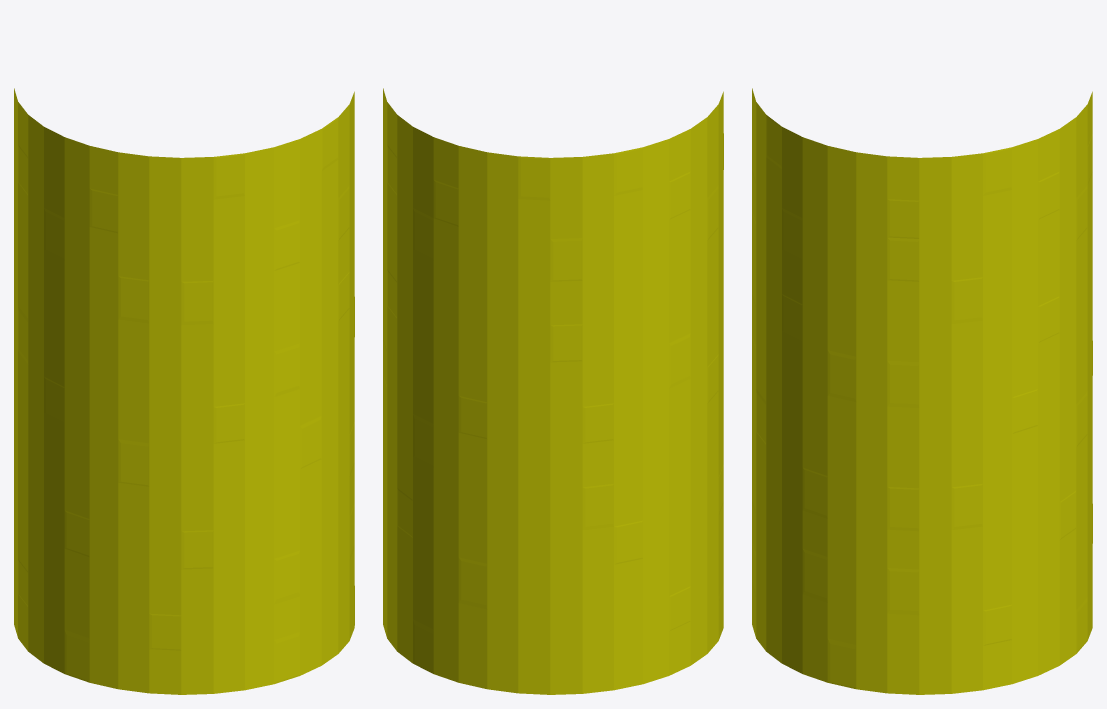
File: cty_round.glb
The picture shows the model from 3 angles, left to right: view 1: azimuth 30°, elevation 25°; view 2: azimuth 150°, elevation 25°; view 3: azimuth 270°, elevation 25°; orthographic projection.
Visible parts, largest first — view 1: SM_Bld_OfficeRound_01; view 2: SM_Bld_OfficeRound_01; view 3: SM_Bld_OfficeRound_01.
Part boxes in pixels (x1=…): SM_Bld_OfficeRound_01: x1=14, y1=88, x2=354, y2=694; SM_Bld_OfficeRound_01: x1=383, y1=88, x2=723, y2=694; SM_Bld_OfficeRound_01: x1=752, y1=88, x2=1092, y2=694.
Bounding box in the file's own units: 0.2204 × 0.3836 × 0.2205.
1 material, 1 textured.
